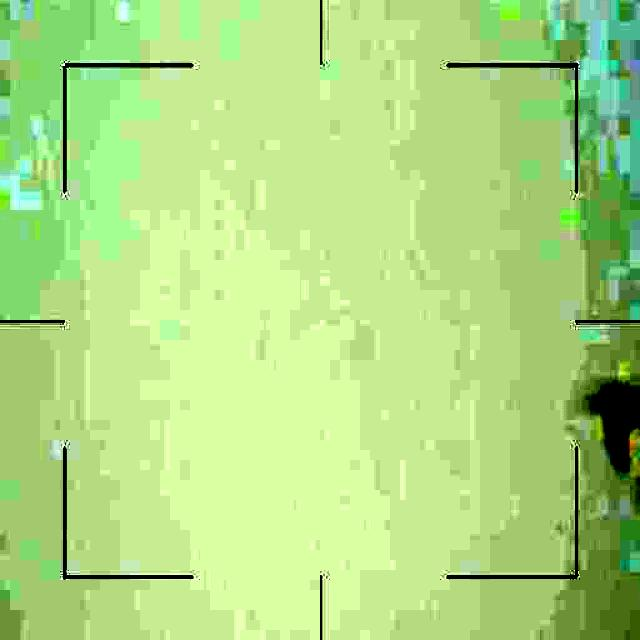bird: (592, 348, 640, 556)
